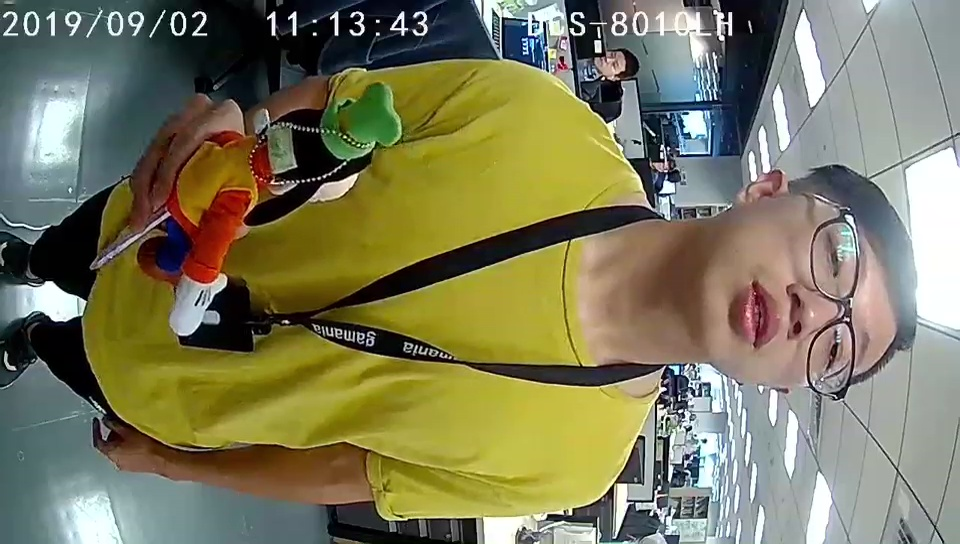goofy: (167, 84, 398, 336)
